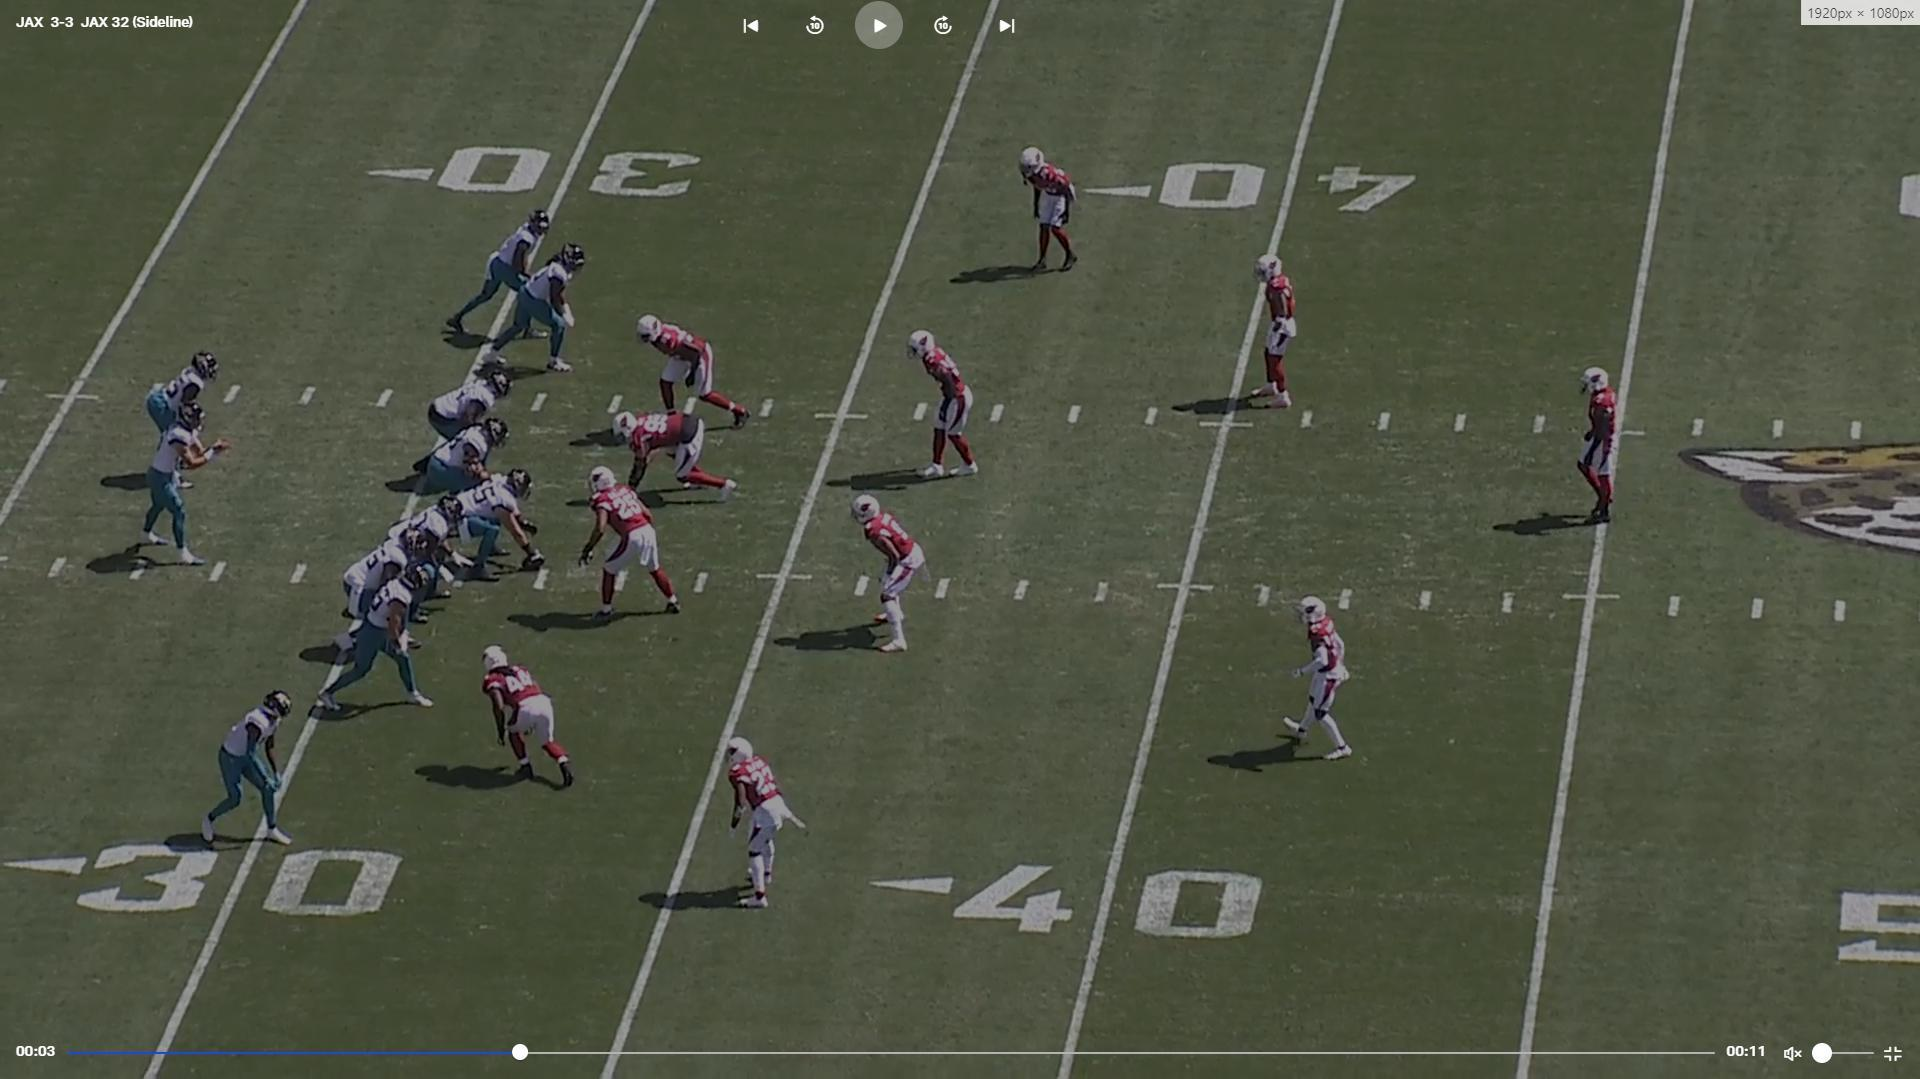player: (307, 561, 443, 717), (443, 202, 562, 350), (319, 517, 433, 669), (582, 467, 688, 630), (194, 687, 297, 851), (485, 643, 592, 797), (137, 401, 227, 576), (481, 242, 593, 381), (712, 731, 794, 913), (1277, 591, 1359, 772), (632, 311, 750, 430), (606, 405, 737, 509), (411, 368, 515, 497), (851, 494, 926, 662), (446, 466, 547, 590), (903, 325, 980, 484), (145, 344, 228, 471), (390, 501, 470, 621), (1017, 140, 1086, 279), (1575, 361, 1625, 531), (1254, 253, 1304, 419), (422, 414, 517, 496)
